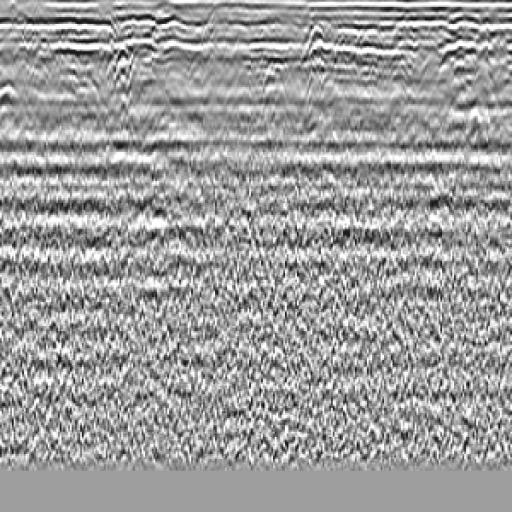metalic: (1, 60, 40, 183)
